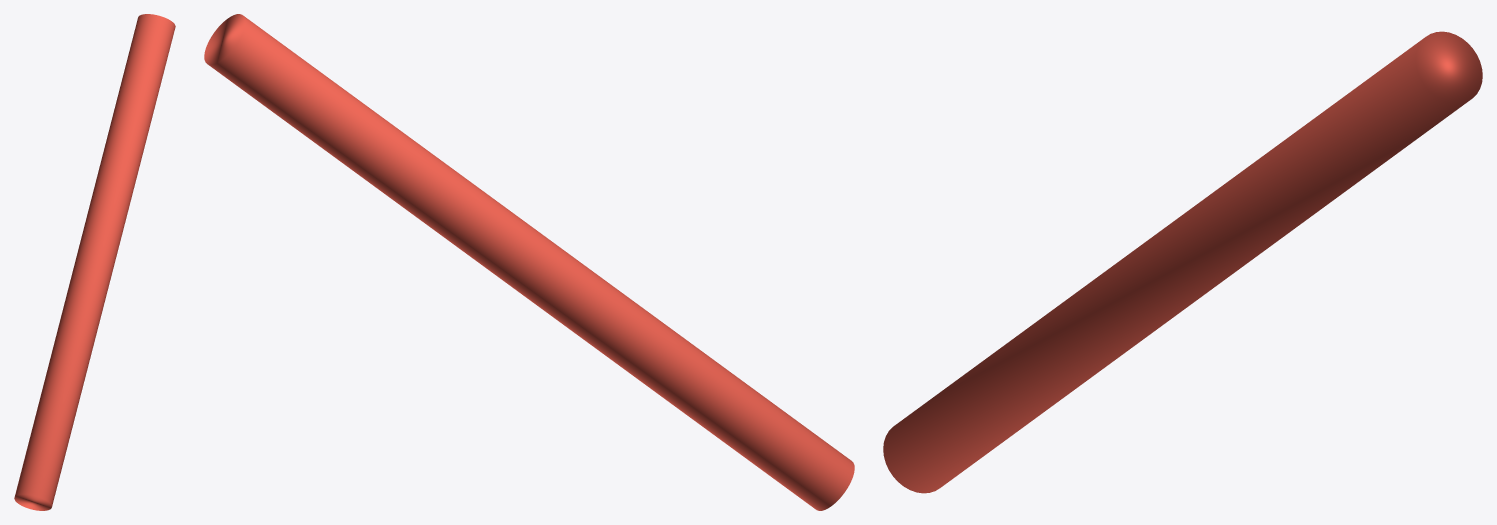
File: HATCH_PCV_Silicone_Vacuum_Hose_2.glb
3 views of the same model, side by side, from view 1: azimuth 30°, elevation 25°; view 2: azimuth 150°, elevation 25°; view 3: azimuth 270°, elevation 25° (orthographic). The views are drawn at different scales.
Visible parts, largest first — view 1: HATCH_PCV_Silicone_Vacuum_Hose_2; view 2: HATCH_PCV_Silicone_Vacuum_Hose_2; view 3: HATCH_PCV_Silicone_Vacuum_Hose_2.
Part boxes in pixels (<box>): HATCH_PCV_Silicone_Vacuum_Hose_2: <box>14,14,175,510</box>; HATCH_PCV_Silicone_Vacuum_Hose_2: <box>204,14,854,510</box>; HATCH_PCV_Silicone_Vacuum_Hose_2: <box>883,31,1482,493</box>.
Bounding box in the file's own units: 0.1358 × 0.1579 × 0.1239.
